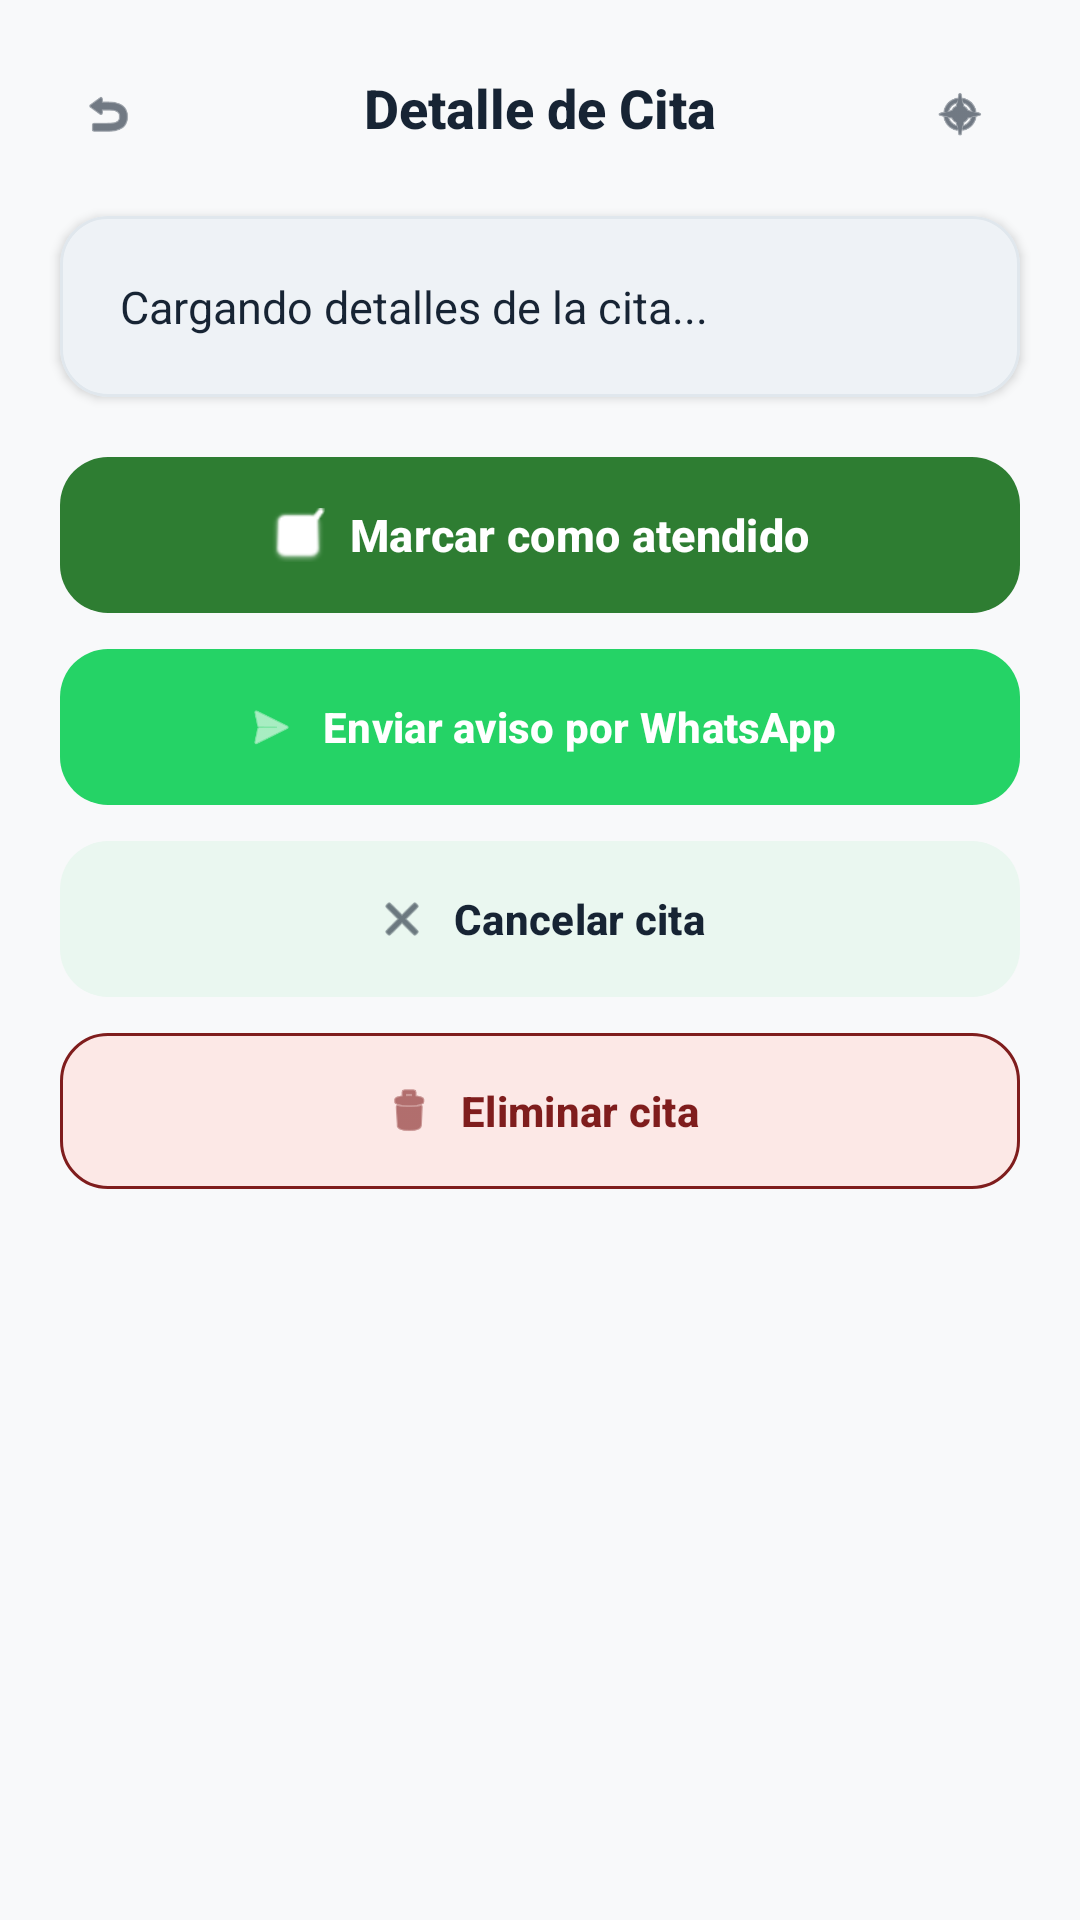

Where icons sit on this 1080 × 1920 app screen, as (x1, y1, x2, y2):
compass: (938, 93, 981, 136)
revert: (89, 97, 128, 132)
